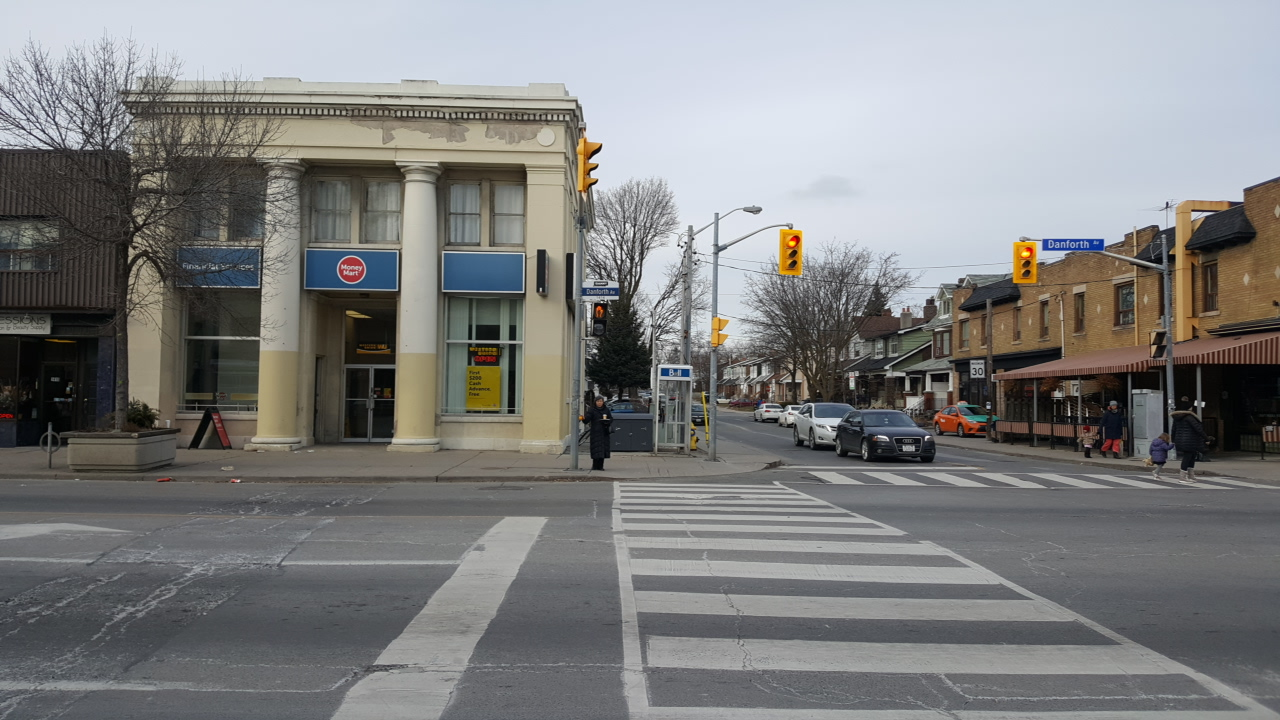light: (589, 300, 609, 339)
